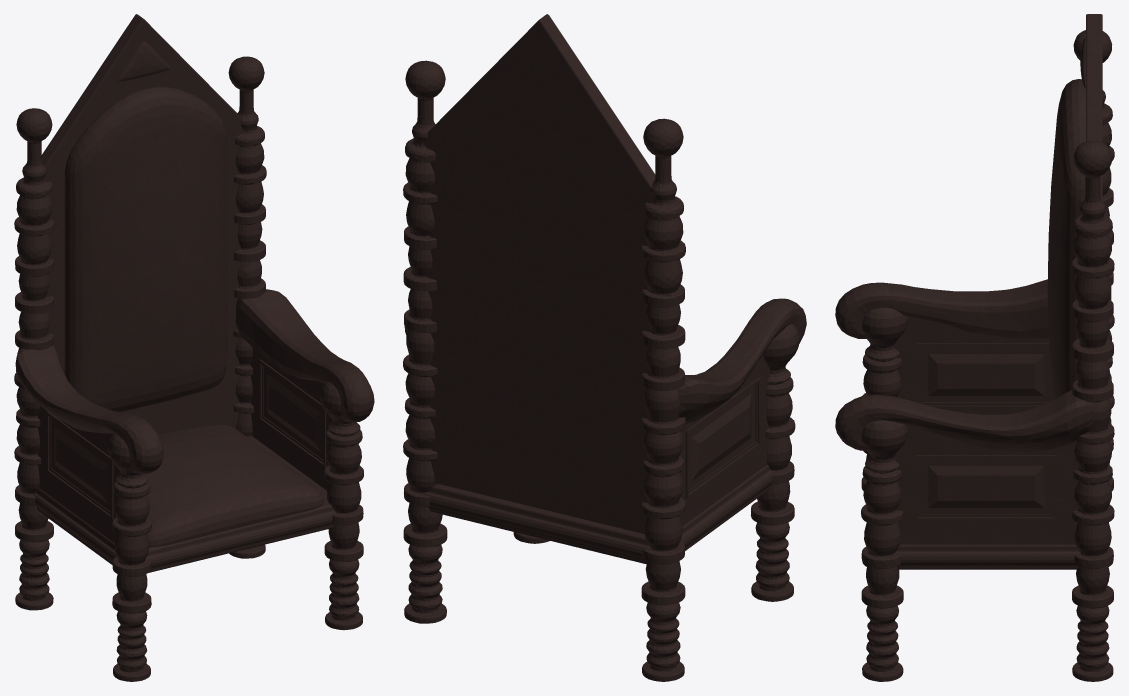
File: kunings (1).fbx
3 renders of one model, left to right at view 1: azimuth 30°, elevation 25°; view 2: azimuth 150°, elevation 25°; view 3: azimuth 270°, elevation 25°, orthographic. The views are drawn at different scales.
Parts seen in each view (by area): view 1: throne; view 2: throne; view 3: throne.
Part boxes in pixels (left/top/right/bottom): throne: left=14, top=14, right=374, bottom=681; throne: left=403, top=14, right=806, bottom=681; throne: left=835, top=14, right=1114, bottom=681.
Size of the model in its own units: 690 by 1350 by 565.
1 material, 1 textured.
